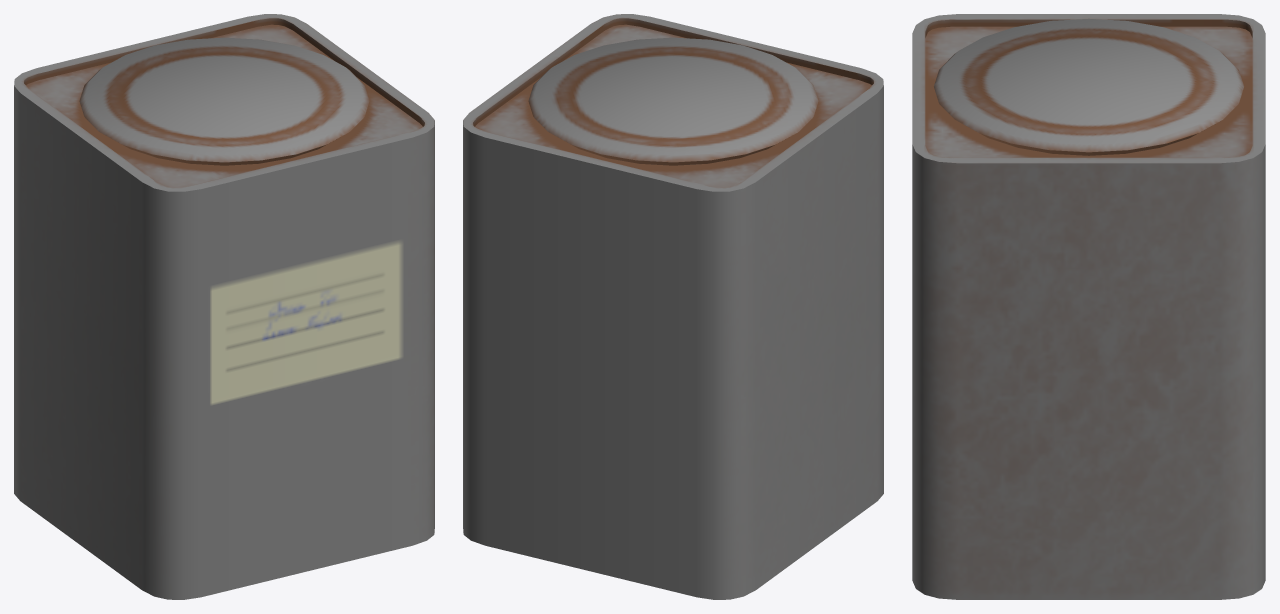
The model's file is MetalCan_A.fbx.
3 views of the same model, side by side, from view 1: azimuth 30°, elevation 25°; view 2: azimuth 150°, elevation 25°; view 3: azimuth 270°, elevation 25° (orthographic). The views are drawn at different scales.
Visible parts, largest first — view 1: MetalCan_A_LOD0; view 2: MetalCan_A_LOD0; view 3: MetalCan_A_LOD0.
Boxes of the visible parts, box(x1,y1,x2,y2) form: MetalCan_A_LOD0: box(14, 14, 434, 599); MetalCan_A_LOD0: box(463, 14, 883, 599); MetalCan_A_LOD0: box(912, 14, 1265, 599).
Size of what is drawn, in the model's own units: 11 by 15.23 by 11.
